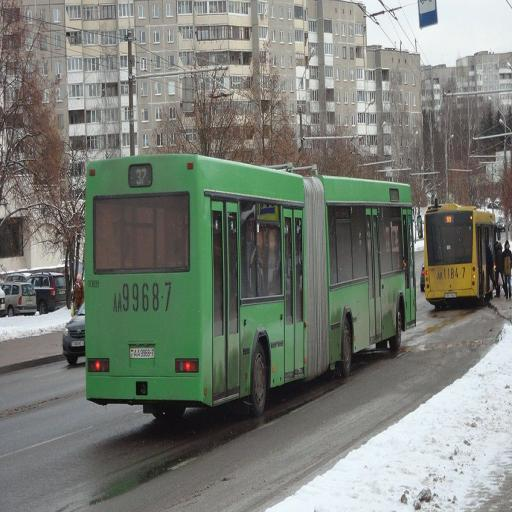bicycle: (84, 154, 415, 420), (425, 205, 497, 306)
bottle: (63, 305, 85, 364)
hole: (487, 241, 512, 298)
